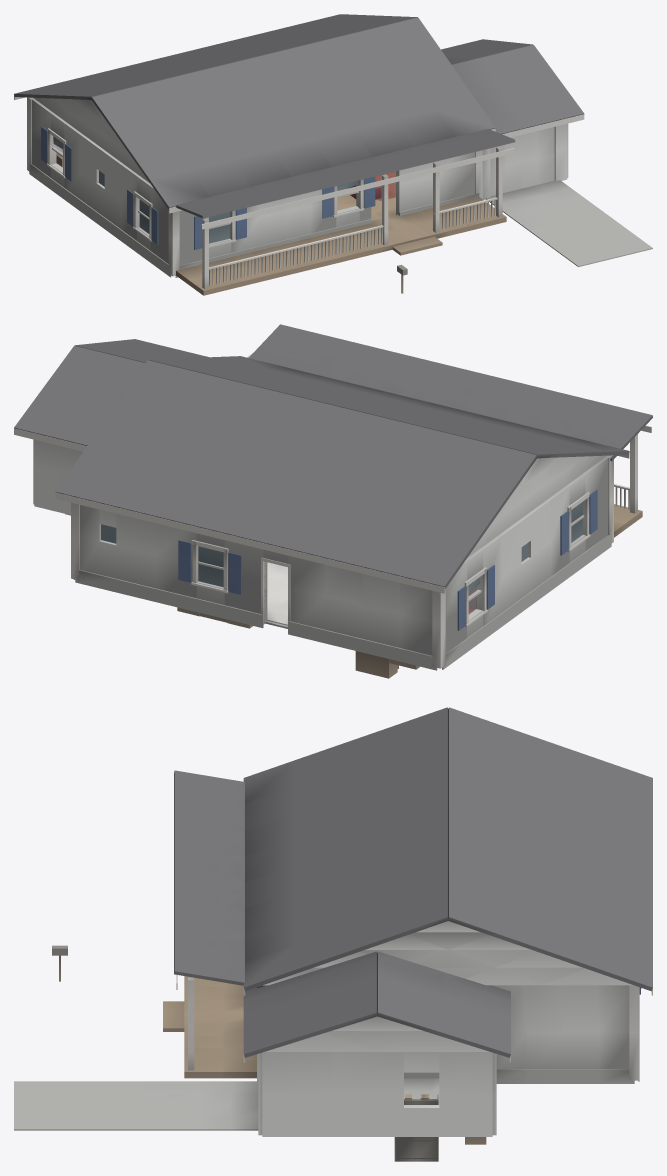
Rendered from casa_us_8.glb.
The picture shows the model from 3 angles, top to bottom: view 1: azimuth 30°, elevation 25°; view 2: azimuth 150°, elevation 25°; view 3: azimuth 270°, elevation 25°; orthographic projection. The views are drawn at different scales.
Parts seen in each view (by area): view 1: longe, ext, detalhe, dentro; view 2: longe, ext, detalhe, dentro, guarda_roupa_quarto24; view 3: longe, ext, despensa_garagem2, detalhe, dentro.
Boxes of the visible parts, x1,y1,x2,y2 form: longe: (14, 14, 652, 295); ext: (27, 97, 568, 277); detalhe: (41, 126, 554, 293); dentro: (56, 145, 396, 220); longe: (14, 324, 652, 593); ext: (33, 439, 613, 670); detalhe: (101, 489, 597, 669); dentro: (265, 562, 476, 628); guarda_roupa_quarto24: (355, 651, 398, 678); longe: (14, 707, 652, 1130); ext: (257, 921, 639, 1136); despensa_garagem2: (394, 1094, 438, 1161); detalhe: (52, 945, 641, 1144); dentro: (404, 1078, 439, 1104).
Size of what is drawn, in the model's own units: 17.8 by 6.2 by 18.02.
